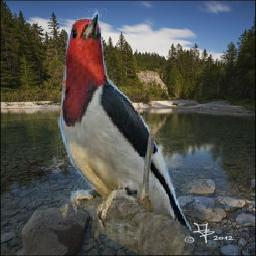Woodpecker: (54, 0, 199, 255)
